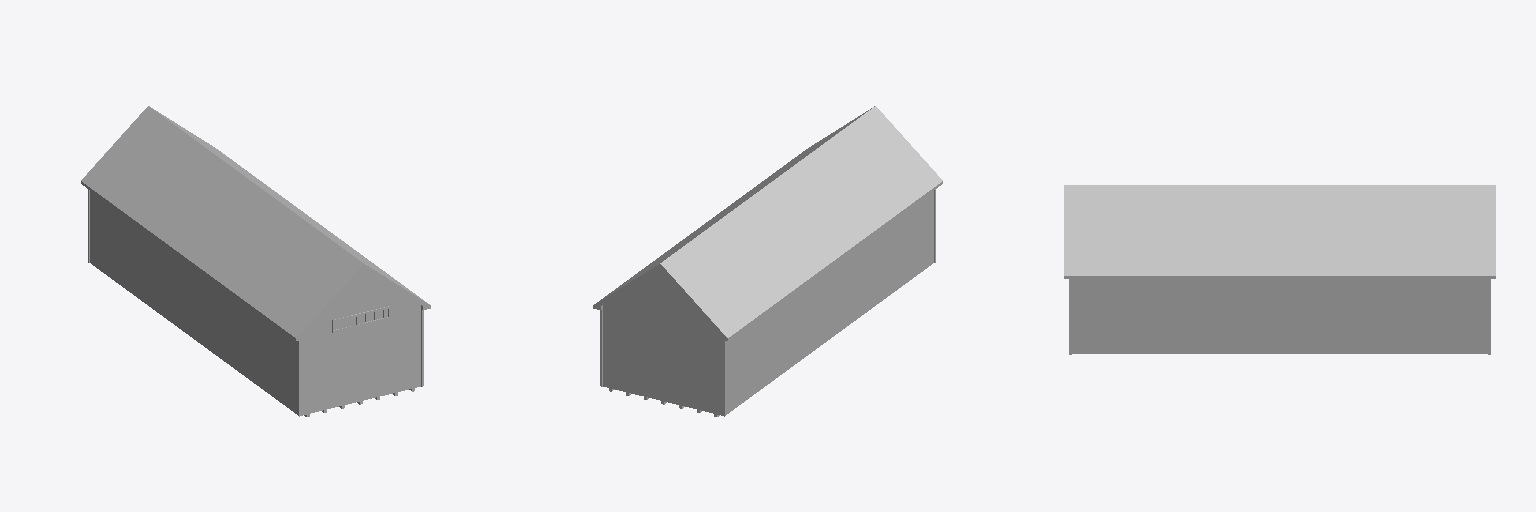
File: Elite Garage_14x40.obj
The picture shows the model from 3 angles: view 1: azimuth 30°, elevation 25°; view 2: azimuth 150°, elevation 25°; view 3: azimuth 270°, elevation 25°; orthographic projection.
Parts seen in each view (by area): view 1: Elite Garage_14x40.obj; view 2: Elite Garage_14x40.obj; view 3: Elite Garage_14x40.obj.
Part boxes in pixels (left/top/right/bottom): Elite Garage_14x40.obj: left=81, top=106, right=430, bottom=416; Elite Garage_14x40.obj: left=593, top=106, right=942, bottom=416; Elite Garage_14x40.obj: left=1064, top=185, right=1495, bottom=354.
Bounding box in the file's own units: 4.52 × 4.57 × 12.5.